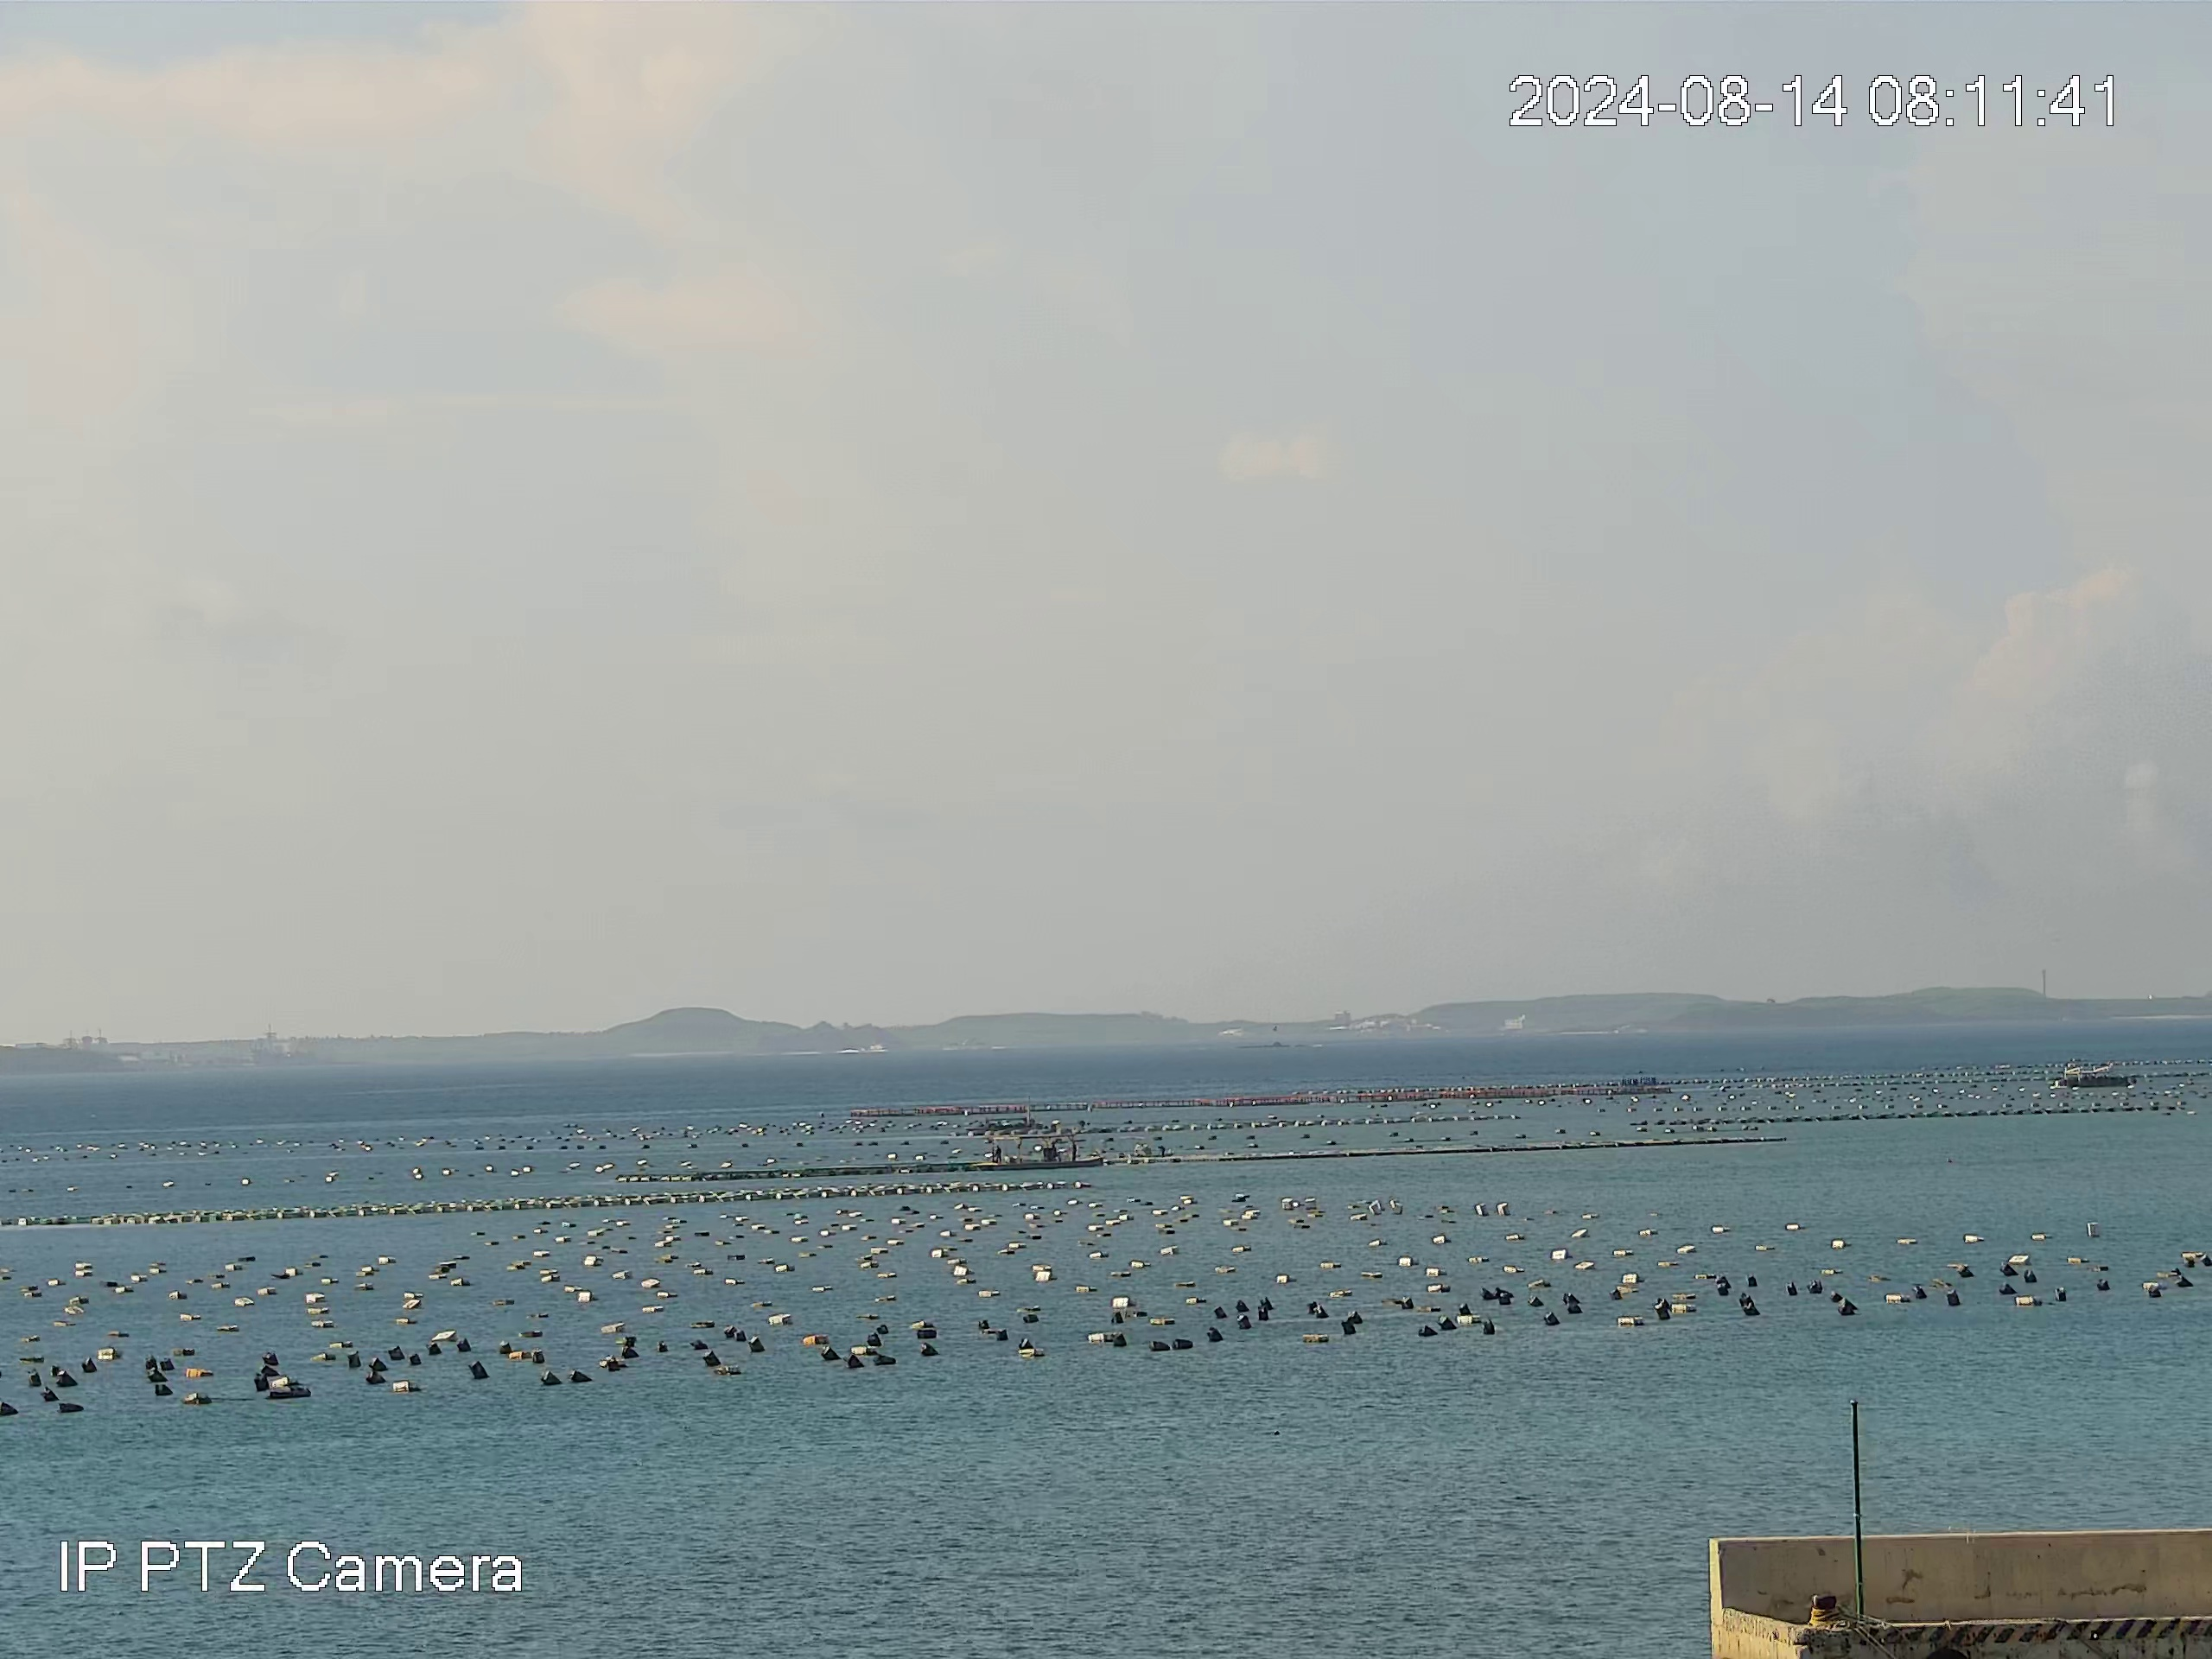boat: (972, 1131, 1106, 1169), (2054, 1065, 2135, 1089)
